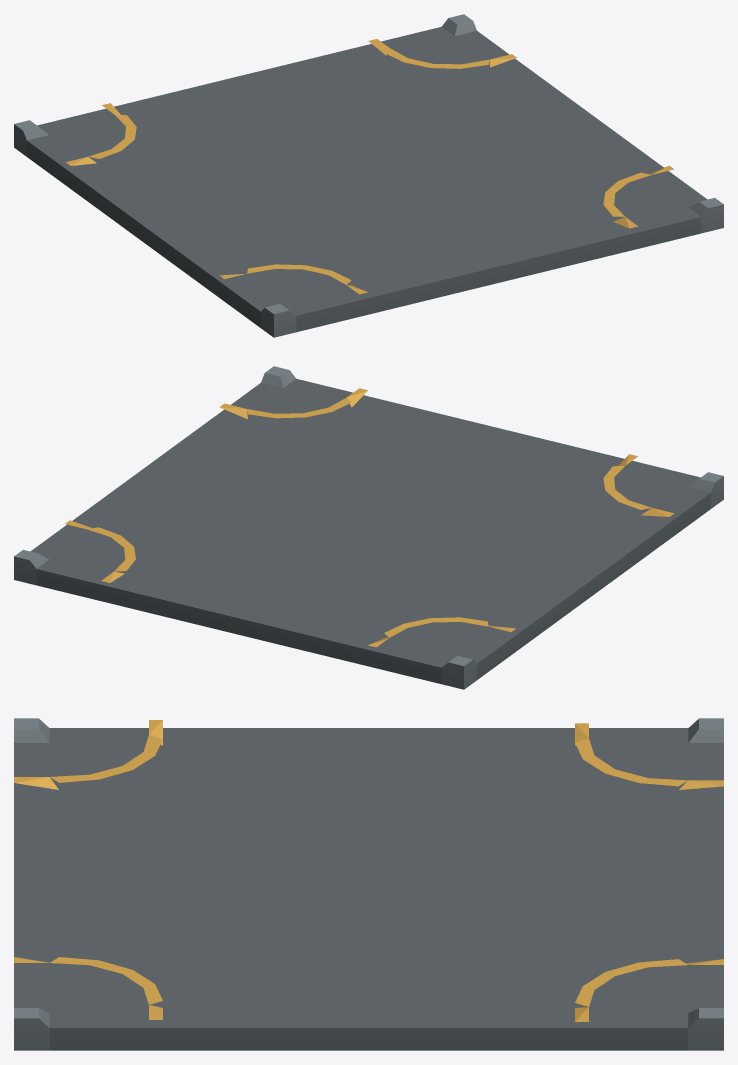
Rendered from RoadJunction.glb.
The picture shows the model from 3 angles, top to bottom: view 1: azimuth 30°, elevation 25°; view 2: azimuth 150°, elevation 25°; view 3: azimuth 270°, elevation 25°; orthographic projection. The views are drawn at different scales.
Parts seen in each view (by area): view 1: road_corner.002, road_corner.003, road_corner.001, road_corner.004; view 2: road_corner.002, road_corner.003, road_corner.001, road_corner.004; view 3: road_corner.001, road_corner.002, road_corner.003, road_corner.004.
Part boxes in pixels (left/top/right/bottom): road_corner.002: left=14, top=18, right=707, bottom=337; road_corner.003: left=14, top=14, right=516, bottom=193; road_corner.001: left=359, top=14, right=723, bottom=228; road_corner.004: left=23, top=21, right=723, bottom=337; road_corner.002: left=30, top=370, right=723, bottom=689; road_corner.003: left=14, top=373, right=528, bottom=689; road_corner.001: left=14, top=366, right=386, bottom=557; road_corner.004: left=260, top=367, right=673, bottom=516; road_corner.001: left=14, top=729, right=723, bottom=1050; road_corner.002: left=14, top=718, right=723, bottom=893; road_corner.003: left=39, top=718, right=723, bottom=1027; road_corner.004: left=14, top=719, right=698, bottom=1027.
Bounding box in the file's own units: 2 × 0.1 × 2.
8 materials, 8 textured.
